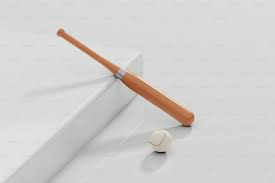baseball bat: (55, 27, 195, 127)
